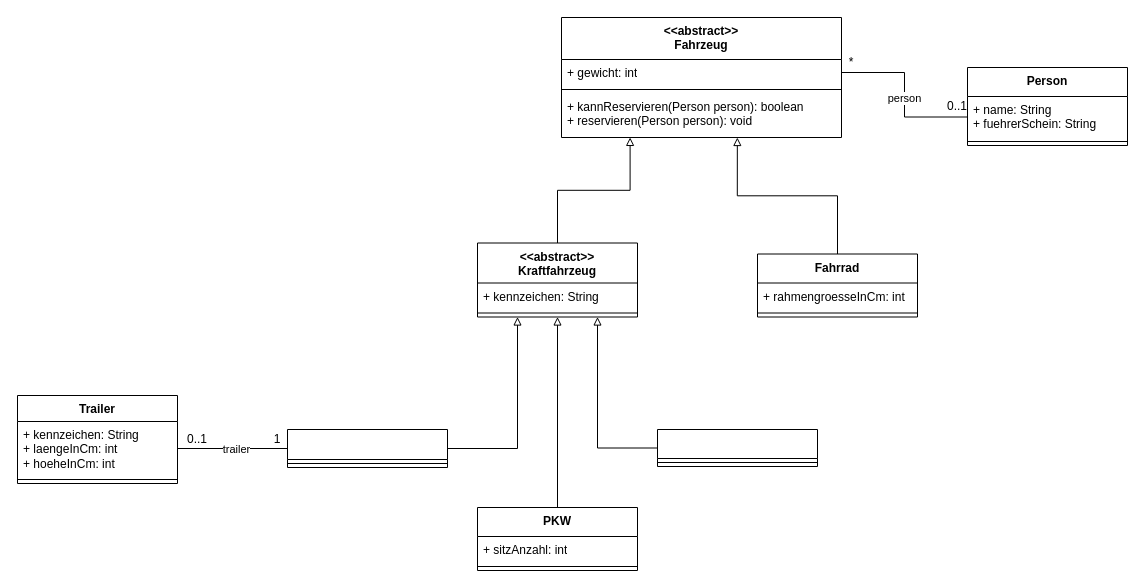
Image size: 1145x588. Some labels were removed from this diagram. Each missing label, with the centre of its shape:
"LKW" goes at pixel 367 448.
"Moped" goes at pixel 737 447.
